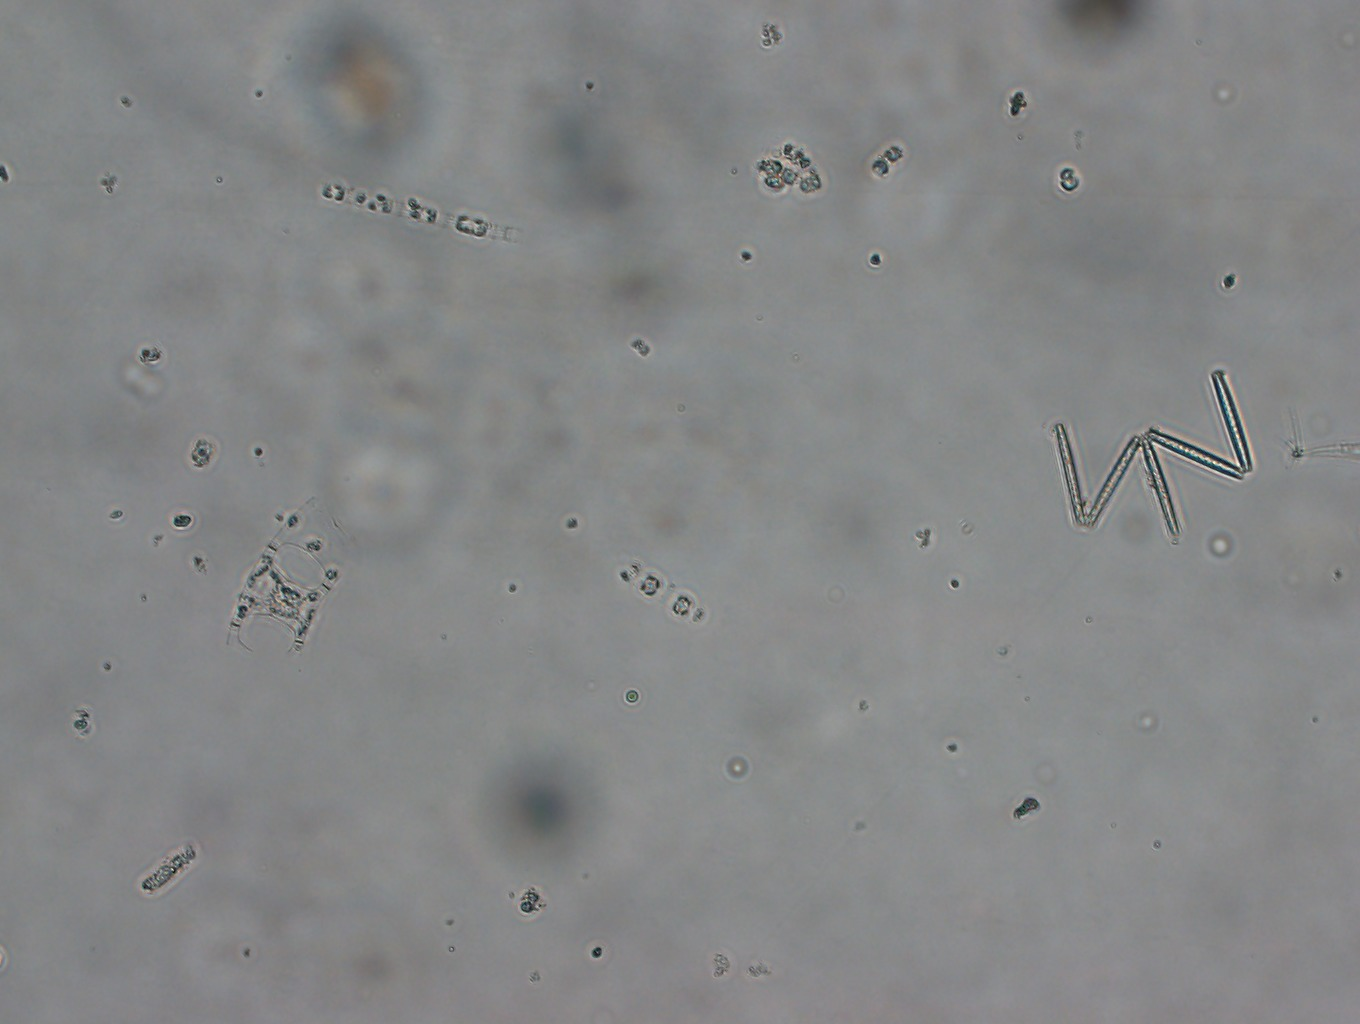thalassionema nitzschioides: (1023, 367, 1263, 540)
